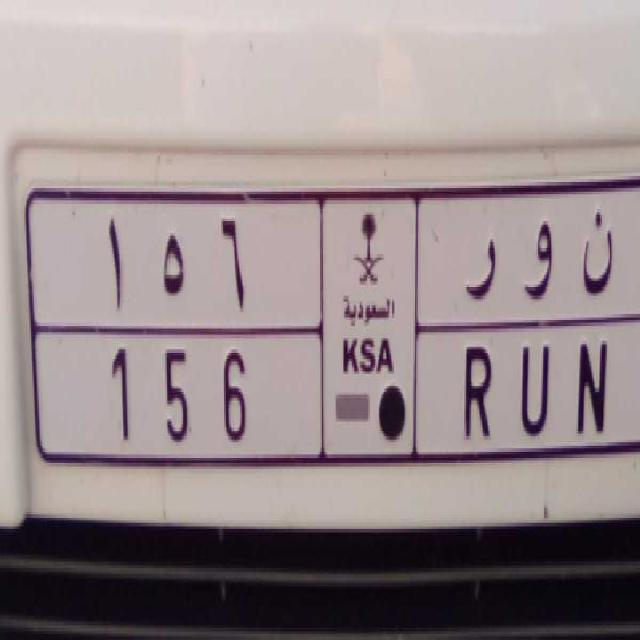license_plate: (76, 314, 620, 466)
